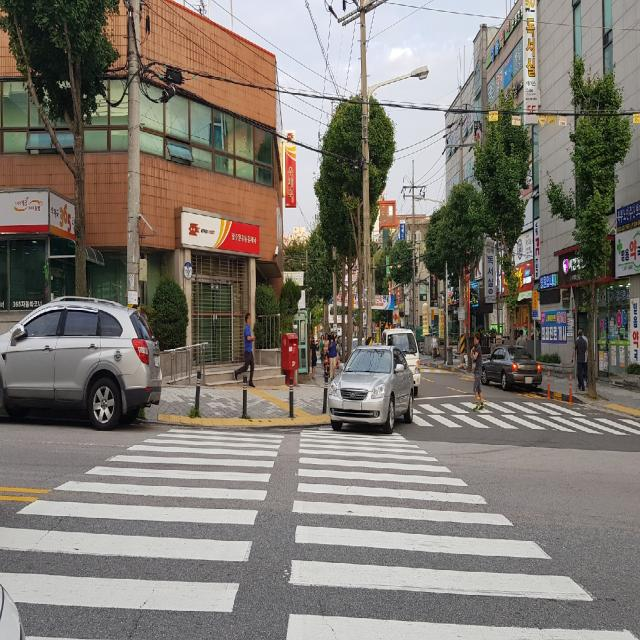횡단보도: (0, 428, 637, 640), (411, 400, 640, 431)
